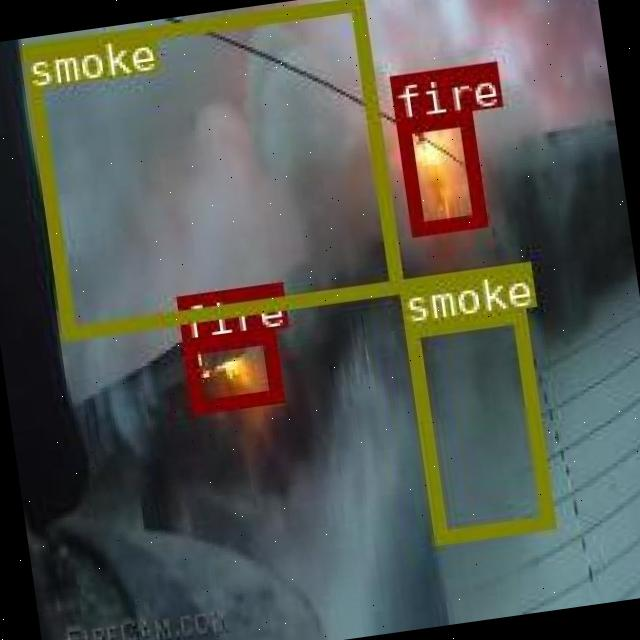fire: (395, 112, 485, 234), (182, 329, 280, 412)
smoke: (19, 0, 400, 337), (404, 307, 550, 541)
